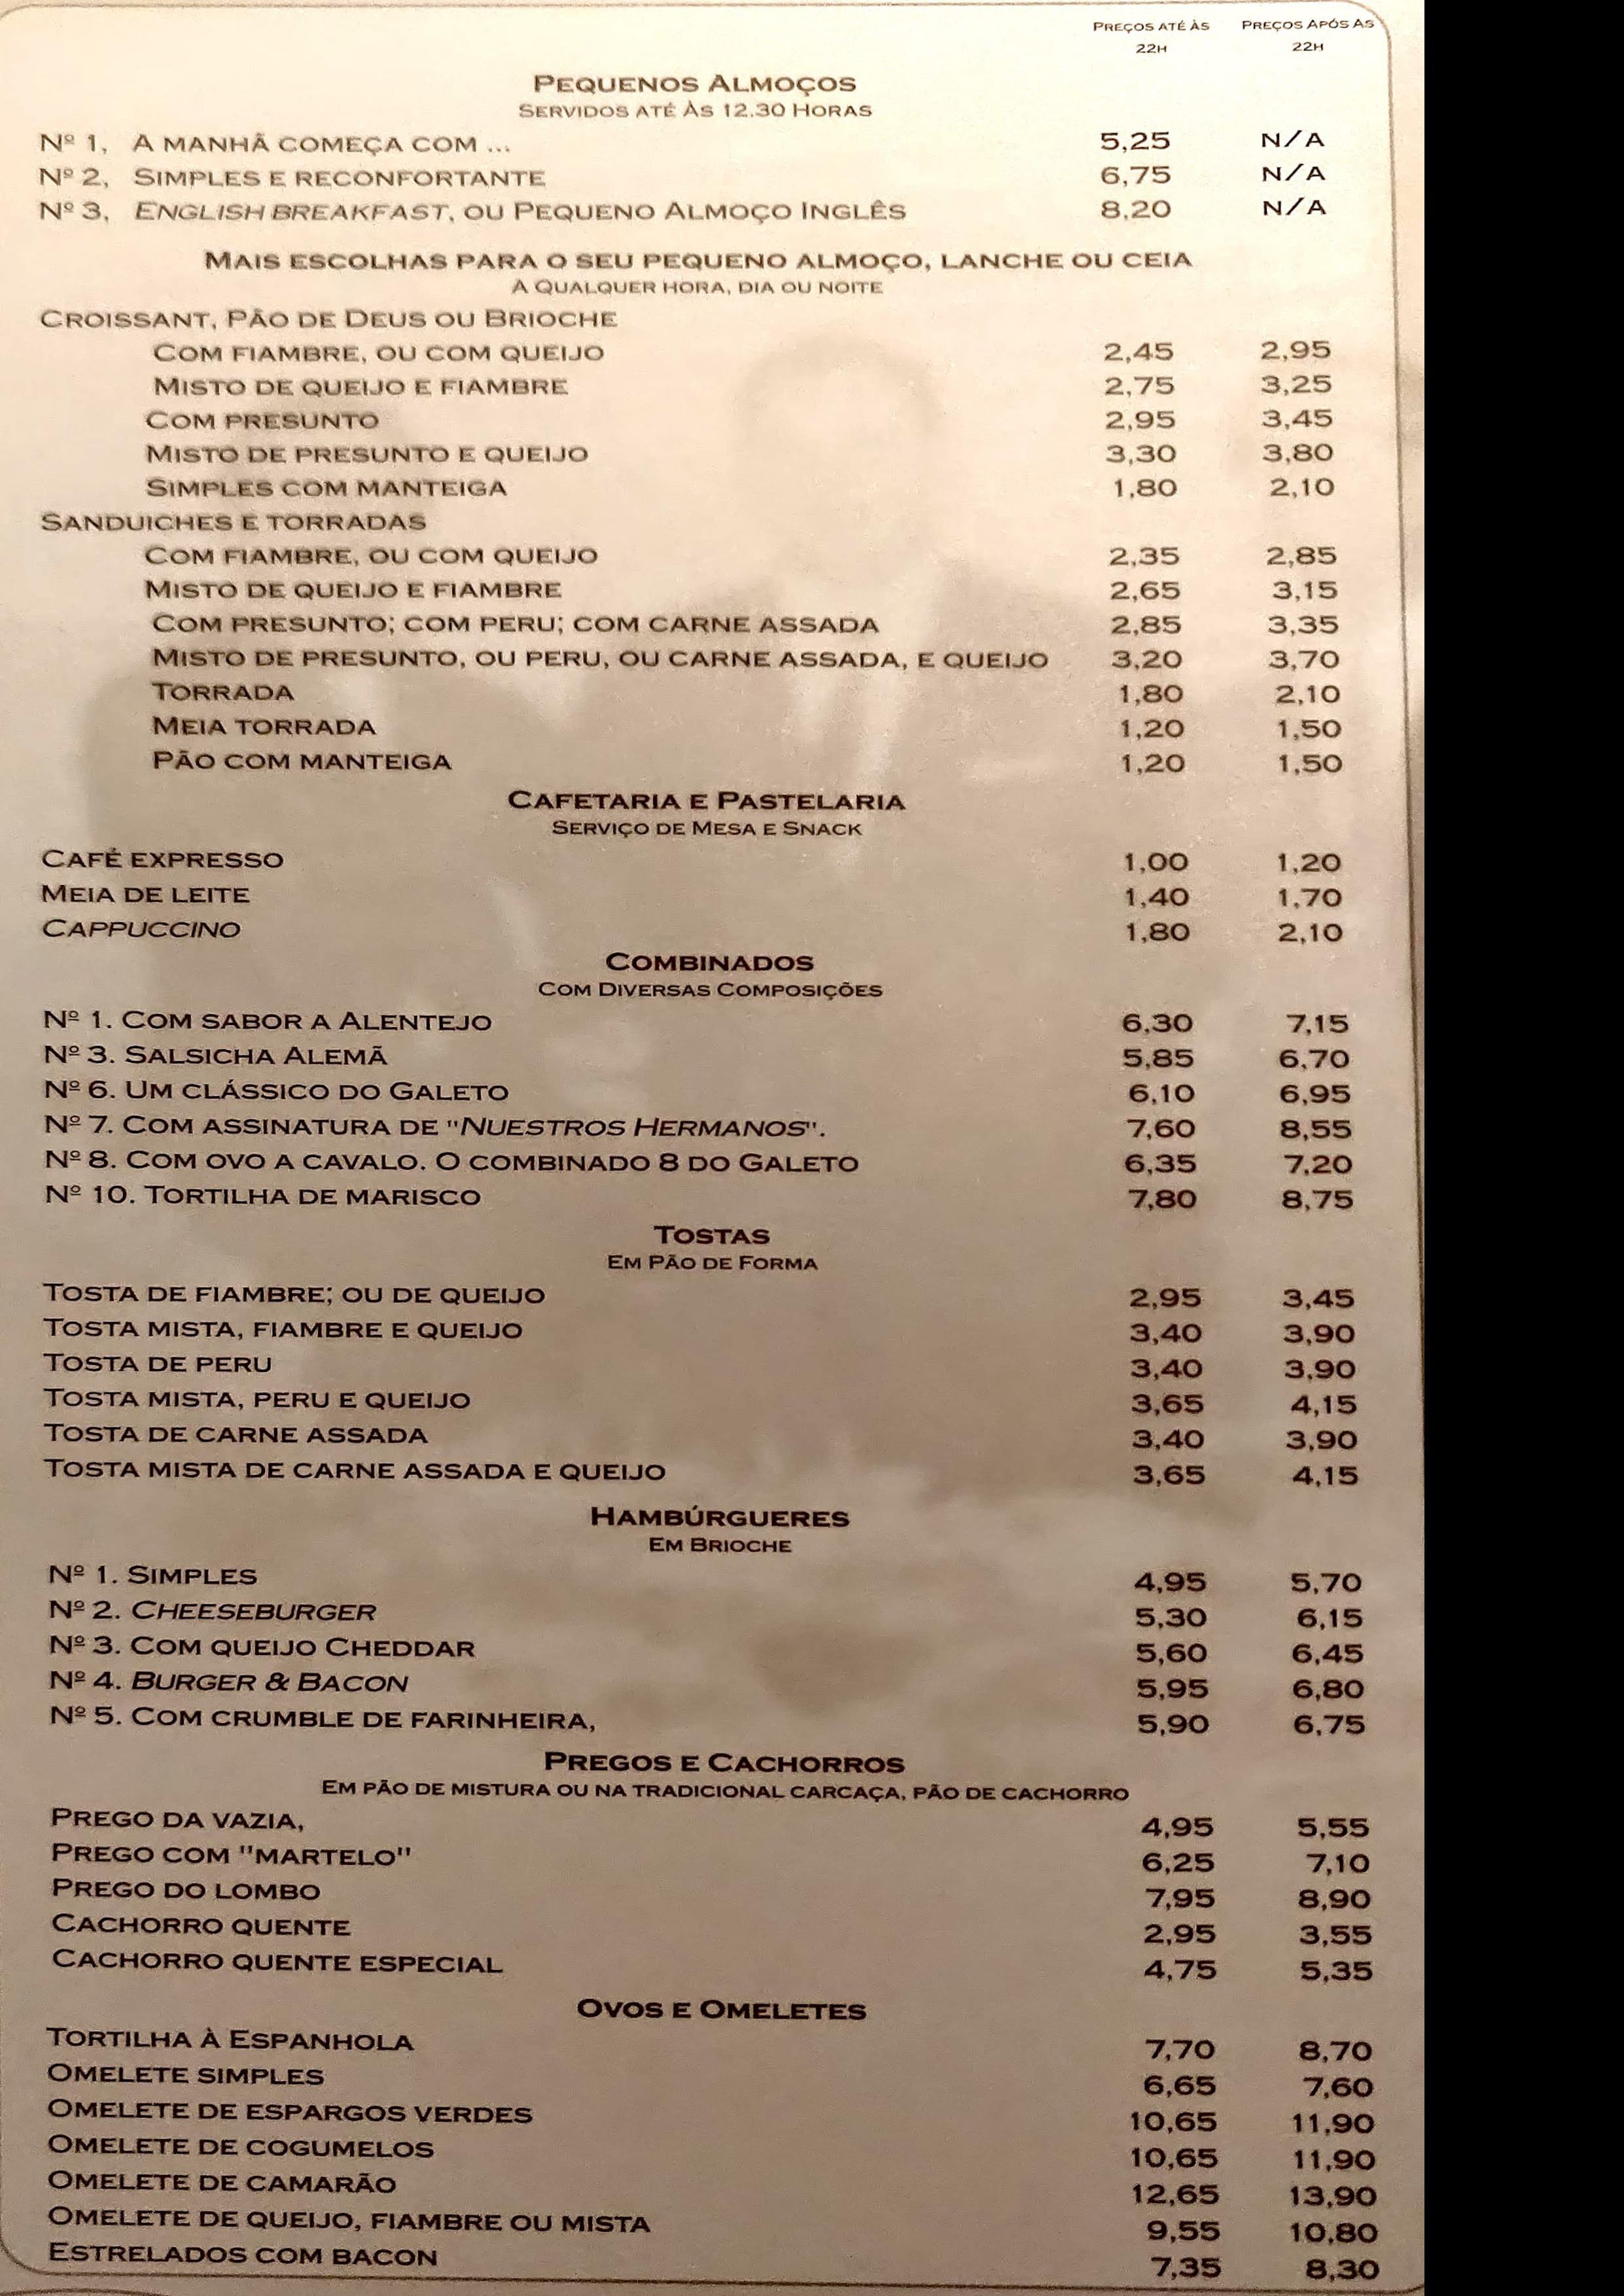item: (46, 1662, 1220, 1708), (44, 1453, 1216, 1495), (40, 1344, 1211, 1386), (33, 186, 1186, 228), (44, 2059, 1232, 2099), (47, 2022, 1223, 2062), (32, 910, 1202, 950), (42, 1140, 1211, 1180), (44, 1412, 1213, 1453), (40, 1003, 1206, 1043), (49, 1873, 1229, 1911), (49, 1839, 1225, 1878), (42, 1105, 1214, 1144), (46, 1627, 1218, 1665), (42, 1070, 1213, 1108), (40, 1177, 1209, 1216), (39, 2099, 1227, 2136), (53, 1911, 1230, 1948), (37, 1275, 1211, 1312), (42, 2208, 1237, 2243), (46, 2245, 1239, 2280), (42, 1804, 1227, 1839), (46, 2173, 1227, 2208), (32, 125, 1199, 160), (135, 745, 1195, 783), (35, 875, 1200, 910), (137, 675, 1190, 713), (141, 608, 1193, 646), (49, 2136, 1227, 2170), (47, 1706, 1222, 1739), (49, 1948, 1223, 1982), (44, 1593, 1213, 1627), (135, 710, 1190, 747), (141, 571, 1195, 608), (37, 843, 1199, 877), (139, 643, 1193, 678), (141, 402, 1195, 437), (42, 1314, 1211, 1346), (139, 369, 1190, 404), (142, 538, 1190, 573), (146, 436, 1190, 471), (141, 471, 1192, 504), (148, 337, 1192, 371), (42, 1043, 1207, 1072), (46, 1560, 1209, 1588), (32, 160, 1188, 188), (44, 1386, 1214, 1412)
price: (1130, 2184, 1223, 2206), (1130, 2110, 1218, 2133), (1130, 2147, 1218, 2170), (1142, 1848, 1214, 1874), (1148, 2217, 1220, 2243), (1151, 2254, 1223, 2280), (1144, 2034, 1214, 2061), (1144, 1957, 1218, 1982), (1139, 1713, 1209, 1737), (1144, 2075, 1220, 2097), (1107, 580, 1183, 603), (1135, 1641, 1209, 1664), (1146, 1885, 1214, 1910), (1127, 1117, 1199, 1140), (1130, 1321, 1202, 1344), (1135, 1463, 1207, 1486), (1146, 1922, 1218, 1945), (1130, 1188, 1197, 1212), (1132, 1356, 1202, 1379), (1121, 750, 1186, 775), (1130, 1288, 1206, 1309), (1121, 1012, 1195, 1033), (1125, 1152, 1199, 1173), (1098, 130, 1172, 151), (1134, 1391, 1207, 1412), (1135, 1678, 1209, 1699), (1111, 648, 1183, 669), (1123, 1047, 1195, 1068), (1134, 1428, 1206, 1449), (1142, 1816, 1214, 1838), (1102, 343, 1174, 364), (1106, 409, 1178, 430), (1109, 546, 1181, 567), (1137, 1606, 1207, 1627), (1102, 199, 1172, 220), (1123, 852, 1192, 873), (1106, 376, 1174, 397), (1135, 1572, 1209, 1592), (1102, 165, 1174, 184), (1113, 478, 1178, 499), (1113, 615, 1183, 634), (1121, 717, 1185, 738), (1127, 887, 1190, 908), (1128, 1084, 1197, 1103), (1107, 444, 1176, 464), (1121, 685, 1183, 706), (1125, 922, 1192, 942)
tittle: (151, 648, 1058, 673), (42, 1112, 826, 1140), (37, 199, 914, 223), (44, 1149, 861, 1175), (46, 2205, 661, 2238), (153, 610, 884, 636), (44, 1456, 670, 1486), (51, 1706, 598, 1734), (47, 2097, 540, 2127), (42, 1279, 548, 1307), (42, 1008, 497, 1038), (44, 1075, 511, 1103), (51, 1948, 510, 1976), (44, 1316, 524, 1342), (47, 2240, 443, 2271), (37, 163, 550, 186), (47, 1634, 478, 1660), (49, 2133, 443, 2161), (49, 2025, 418, 2055), (44, 1421, 432, 1449), (40, 134, 517, 156), (42, 1184, 483, 1209), (42, 1386, 476, 1411), (53, 1843, 417, 1871), (146, 443, 591, 466), (46, 2170, 404, 2198), (149, 374, 576, 397), (144, 580, 571, 603), (46, 1667, 411, 1693), (146, 546, 601, 567), (49, 1597, 376, 1625), (151, 747, 455, 776), (46, 2059, 327, 2090), (155, 344, 610, 362), (54, 1915, 355, 1941), (44, 1045, 390, 1068), (51, 1876, 325, 1904), (49, 1806, 306, 1836), (146, 476, 506, 497), (40, 845, 285, 873), (44, 1351, 281, 1377), (39, 882, 255, 908), (151, 713, 381, 738), (47, 1563, 260, 1588), (40, 915, 243, 940), (146, 411, 380, 430), (153, 682, 295, 701)
